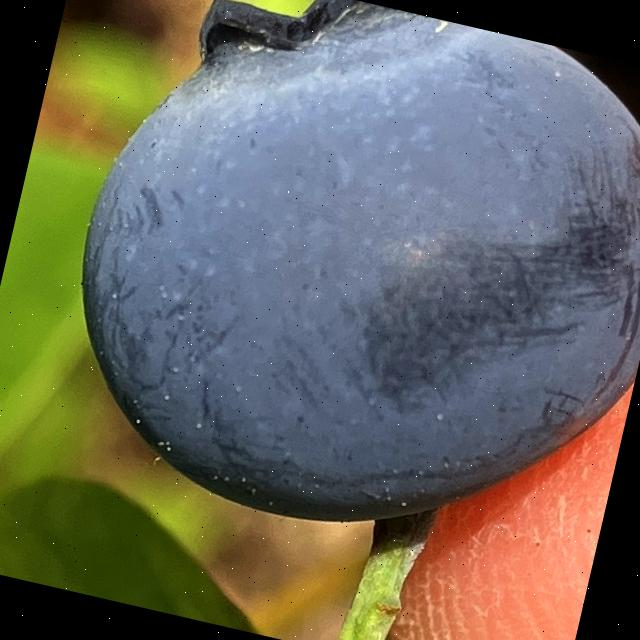Blueberries: (27, 0, 640, 588)
